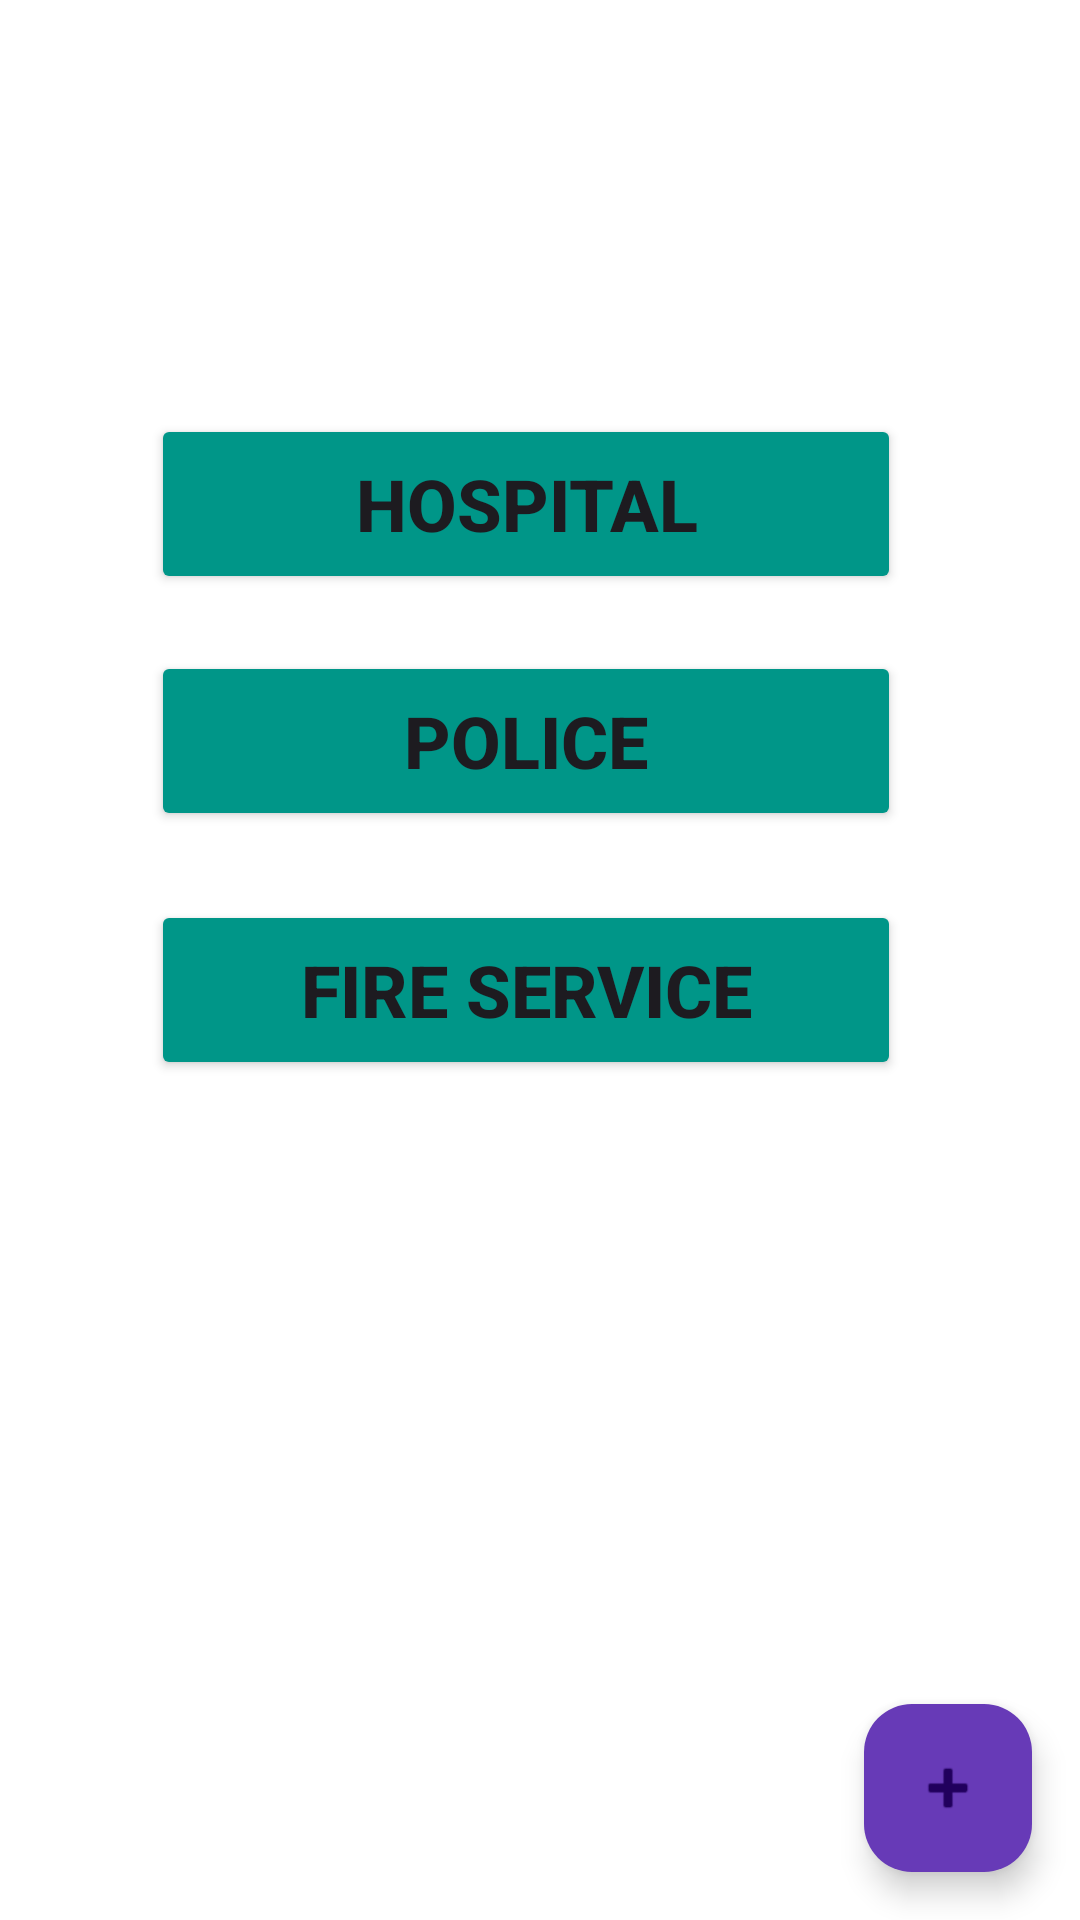

Screen size 1080*1920. Icon name, then its box in pixels as box=[x1, y1, x2, y2]:
Floating Action Button: box=[864, 1704, 1032, 1872]
